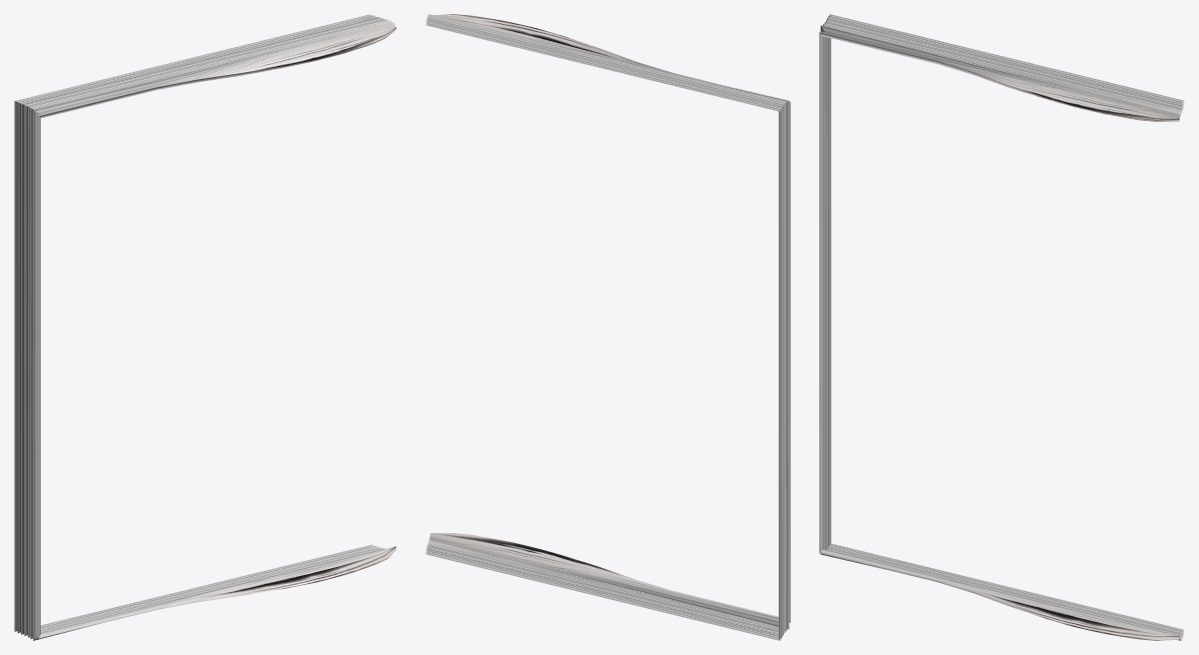
The model's file is MeshBook_3_0_GeomSubset_1.obj.
The picture shows the model from 3 angles, left to right: view 1: azimuth 30°, elevation 25°; view 2: azimuth 150°, elevation 25°; view 3: azimuth 330°, elevation 25°; orthographic projection.
Visible parts, largest first — view 1: MeshBook_3_0_GeomSubset_1; view 2: MeshBook_3_0_GeomSubset_1; view 3: MeshBook_3_0_GeomSubset_1.
Part boxes in pixels (x1,y1,x2,y2): MeshBook_3_0_GeomSubset_1: (14,14,396,640); MeshBook_3_0_GeomSubset_1: (425,14,790,640); MeshBook_3_0_GeomSubset_1: (819,14,1184,640).
Size of the model in its own units: 0.2222 by 0.3078 by 0.0305.
